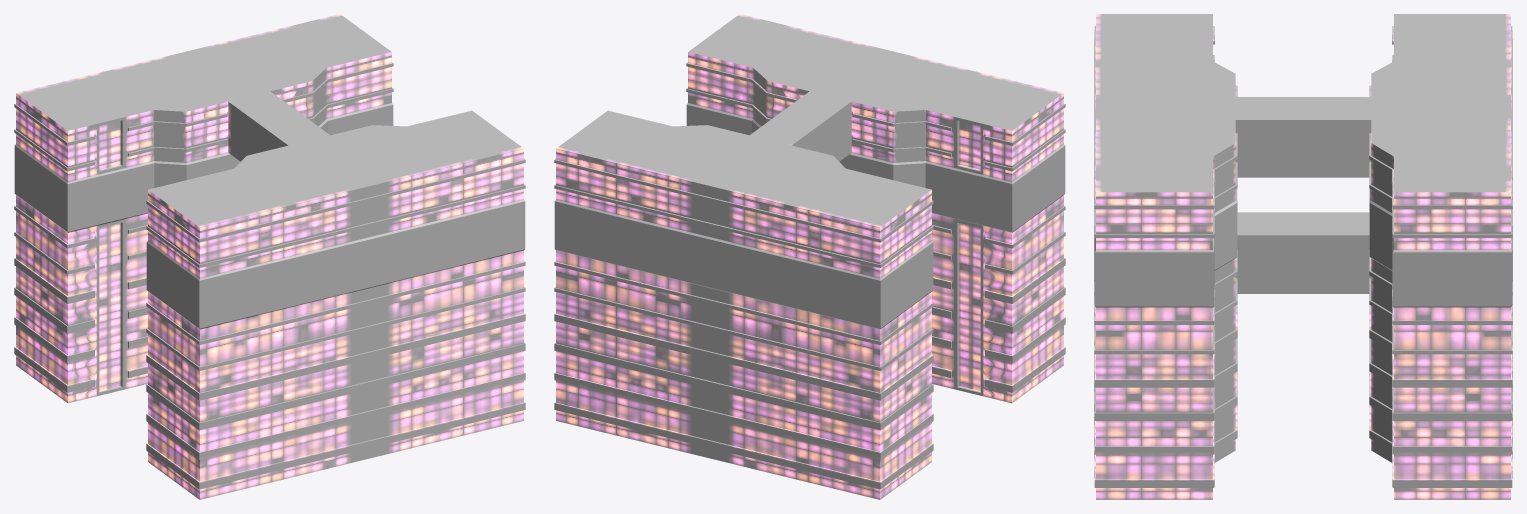
File: BuildingBigH.fbx
3 views of the same model, side by side, from view 1: azimuth 30°, elevation 25°; view 2: azimuth 150°, elevation 25°; view 3: azimuth 270°, elevation 25° (orthographic). The views are drawn at different scales.
Parts seen in each view (by area): view 1: BuildingBigH; view 2: BuildingBigH; view 3: BuildingBigH.
Boxes of the visible parts, x1=… form: BuildingBigH: x1=14, y1=14, x2=525, y2=499; BuildingBigH: x1=554, y1=14, x2=1065, y2=499; BuildingBigH: x1=1094, y1=14, x2=1512, y2=499.
Bounding box in the file's own units: 1128 × 900 × 1111.
